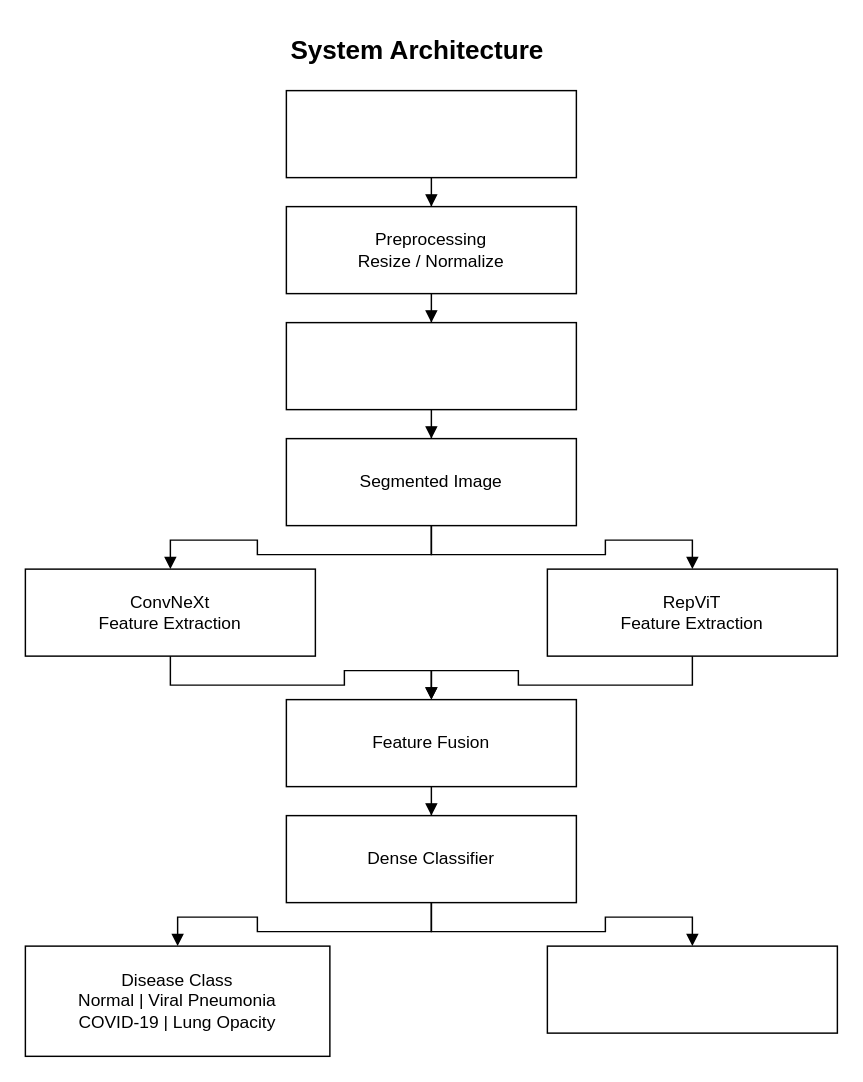
Image size: 863x1082. Some labels were removed from this diagram. Here are the shapes that lost their labels. From the top down, the centre of each, then its label:
At (430,133): "Chest X-Ray Image".
At (430,365): "U-Net Lung Segmentation".
At (691,989): "Grad-CAM Explanation Heatmap".
